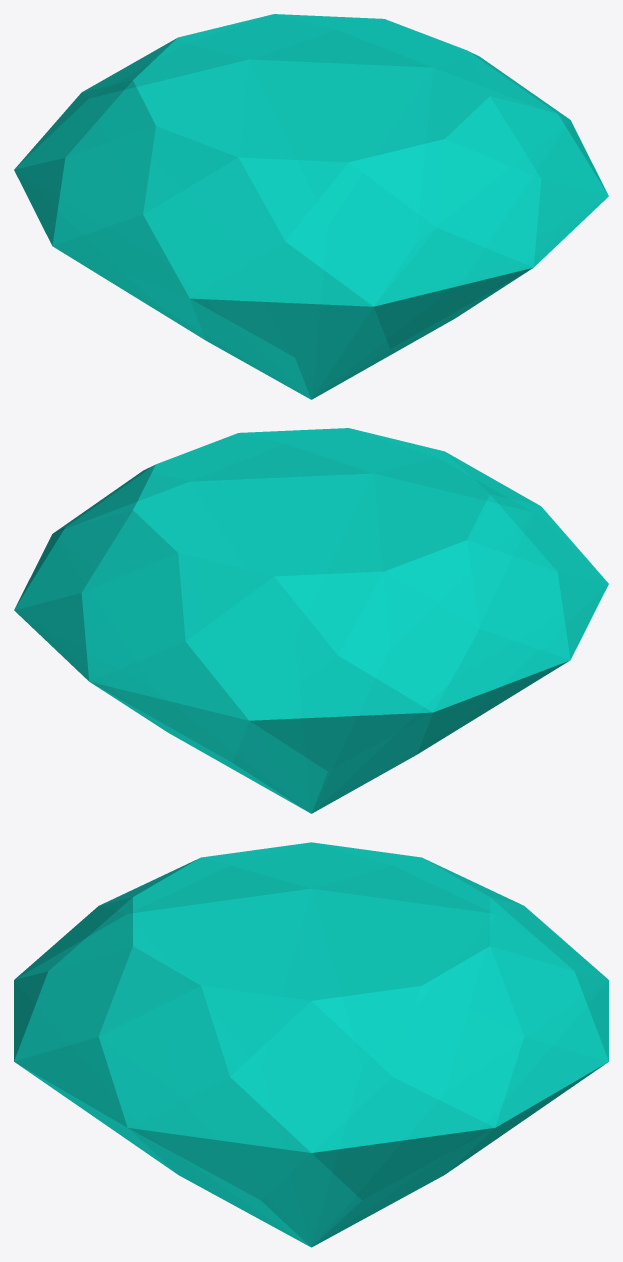
The model's file is GemaCyan.fbx.
3 renders of one model, top to bottom at view 1: azimuth 30°, elevation 25°; view 2: azimuth 150°, elevation 25°; view 3: azimuth 270°, elevation 25°, orthographic. The views are drawn at different scales.
Parts seen in each view (by area): view 1: Gem.002; view 2: Gem.002; view 3: Gem.002.
Part boxes in pixels (x1,y1,x2,y2): Gem.002: (14,14,608,399); Gem.002: (14,428,608,813); Gem.002: (14,842,608,1247).
Bounding box in the file's own units: 200 × 115 × 190.
